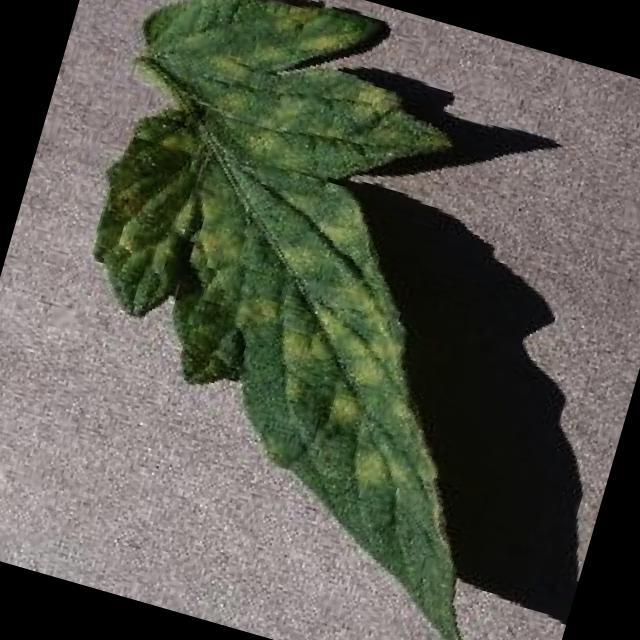Tomato mold leaf: (0, 0, 632, 640)
